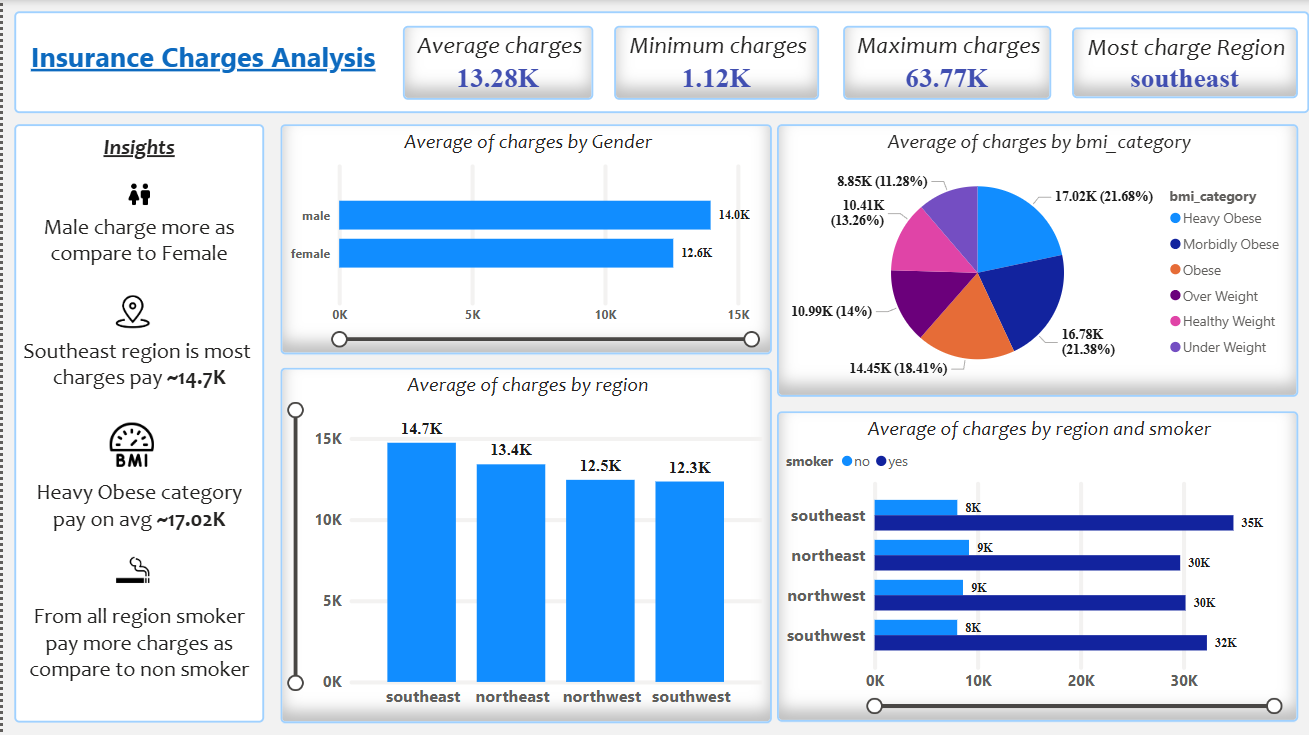

The dashboard page shown, as its layout file describes it:
{"tool":"powerbi","page":{"name":"Page 1","canvas":[1280,720],"ordinal":0},"visuals":[{"type":"textbox","box":[11.1,121.7,245,586.5],"z":0},{"type":"textbox","box":[11.1,11.1,1269.3,99.6],"z":1000},{"type":"card","title":"Average charges","fields":{"Values":["Avg(insurance.charges)"]},"box":[392,25.3,186.5,72.7],"z":2000},{"type":"card","title":"Maximum charges","fields":{"Values":["Max(insurance.charges)"]},"box":[823.6,25.3,203.9,72.7],"z":3000},{"type":"card","title":"Most charge Region","fields":{"Values":["Min(insurance.region)"]},"box":[1048,26.9,221.3,69.6],"z":4000},{"type":"card","title":"Minimum charges","fields":{"Values":["Min(insurance.charges)"]},"box":[599.1,25.3,200.8,72.7],"z":5000},{"type":"clusteredBarChart","title":"Average of charges by Gender","fields":{"Category":["insurance.sex"],"Y":["Avg(insurance.charges)"]},"box":[271.9,121.7,482.1,226],"z":6000},{"type":"columnChart","fields":{"Y":["Avg(insurance.charges)"],"Category":["insurance.region"]},"box":[272.3,360.2,482,348.4],"z":7000},{"type":"clusteredBarChart","fields":{"Category":["insurance.region"],"Y":["Avg(insurance.charges)"],"Series":["insurance.smoker"]},"box":[759.4,402.5,510.8,304.4],"z":8000},{"type":"pieChart","fields":{"Y":["Avg(insurance.charges)"],"Category":["insurance.bmi_category"]},"box":[759.4,121.8,510.8,267.2],"z":9000},{"type":"image","box":[111.9,168.7,42.6,42.6],"z":10000},{"type":"image","box":[99.4,280.6,55,51.5],"z":11000},{"type":"image","box":[99.4,403.1,53.3,65.7],"z":12000},{"type":"image","box":[99.4,534.5,55,51.5],"z":13000}]}

Visuals, with their boxes in screenshot pixels (x1, y1, x2, y2), scaled from the page's 1280x720 canvas onto the 1309x735 screenshot:
textbox: 11, 124, 262, 723
textbox: 11, 11, 1308, 113
"Average charges" card: 401, 26, 592, 100
"Maximum charges" card: 842, 26, 1051, 100
"Most charge Region" card: 1072, 27, 1298, 99
"Minimum charges" card: 613, 26, 818, 100
"Average of charges by Gender" clusteredBarChart: 278, 124, 771, 355
columnChart - Avg(insurance.charges) x insurance.region: 278, 368, 771, 723
clusteredBarChart - insurance.region x Avg(insurance.charges): 777, 411, 1299, 722
pieChart - Avg(insurance.charges) x insurance.bmi_category: 777, 124, 1299, 397
image: 114, 172, 158, 216
image: 102, 286, 158, 339
image: 102, 411, 156, 479
image: 102, 546, 158, 598
